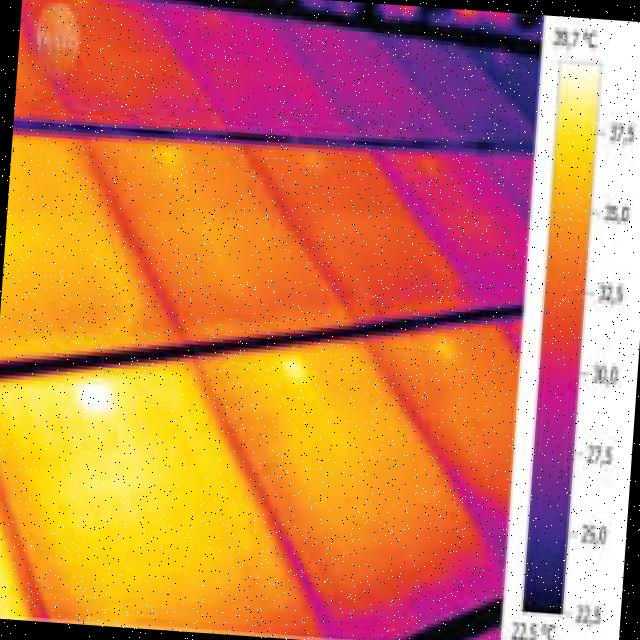Hotspot: (73, 362, 128, 426), (270, 346, 306, 388)
